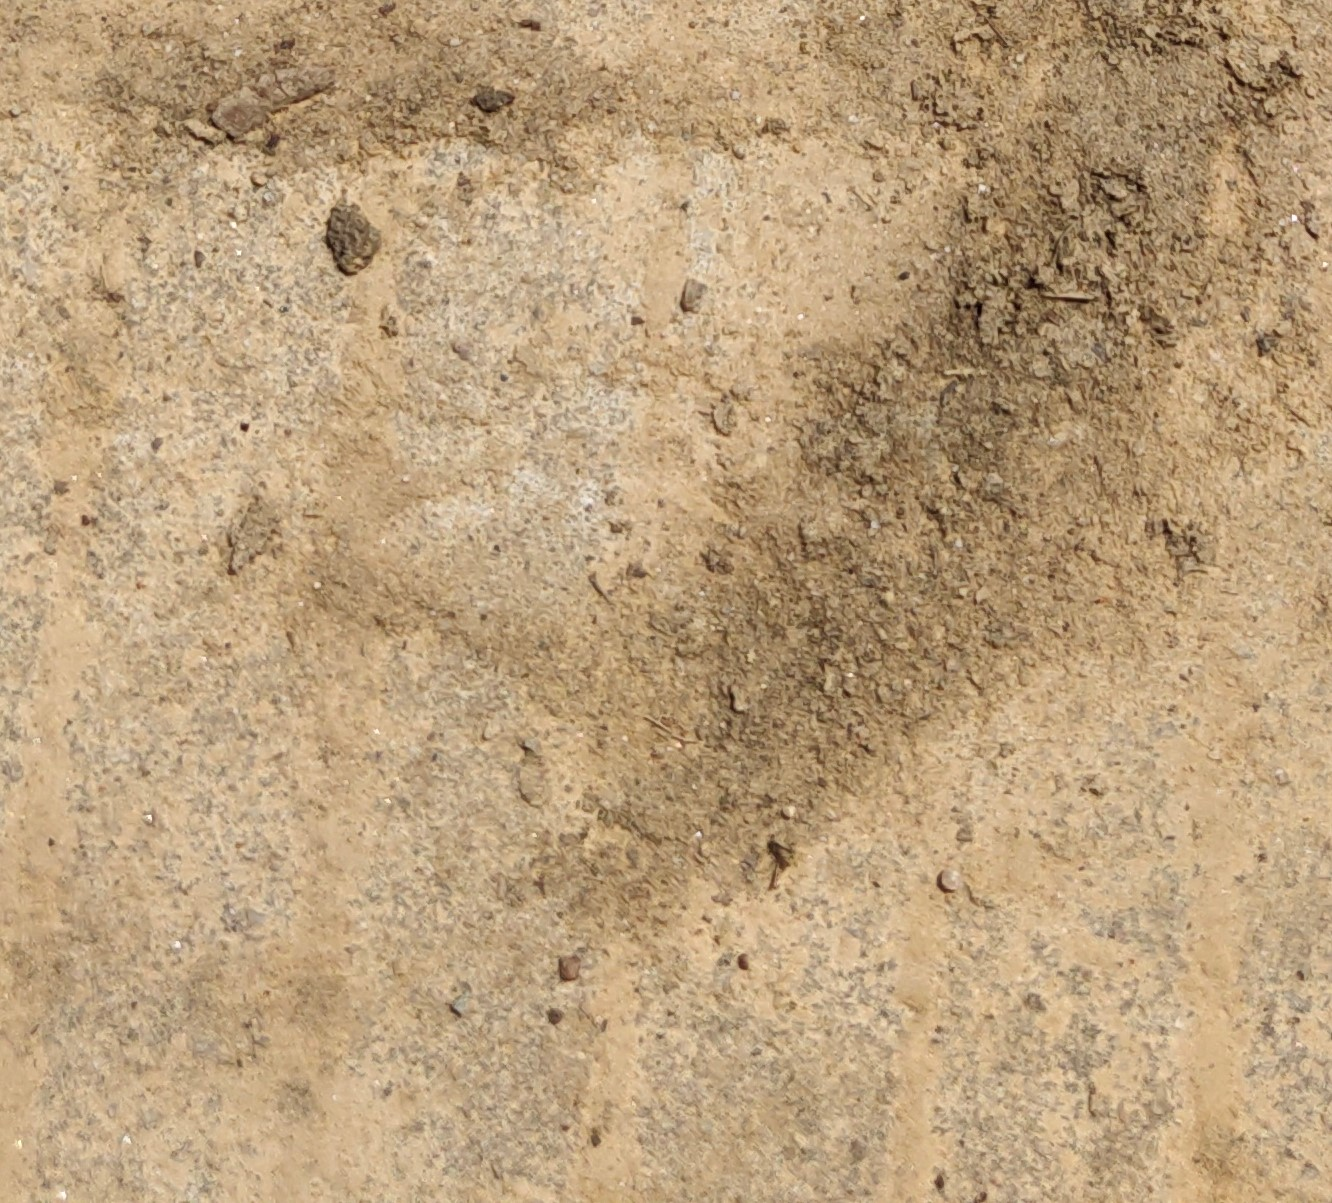ash pile: (493, 1, 1298, 926)
